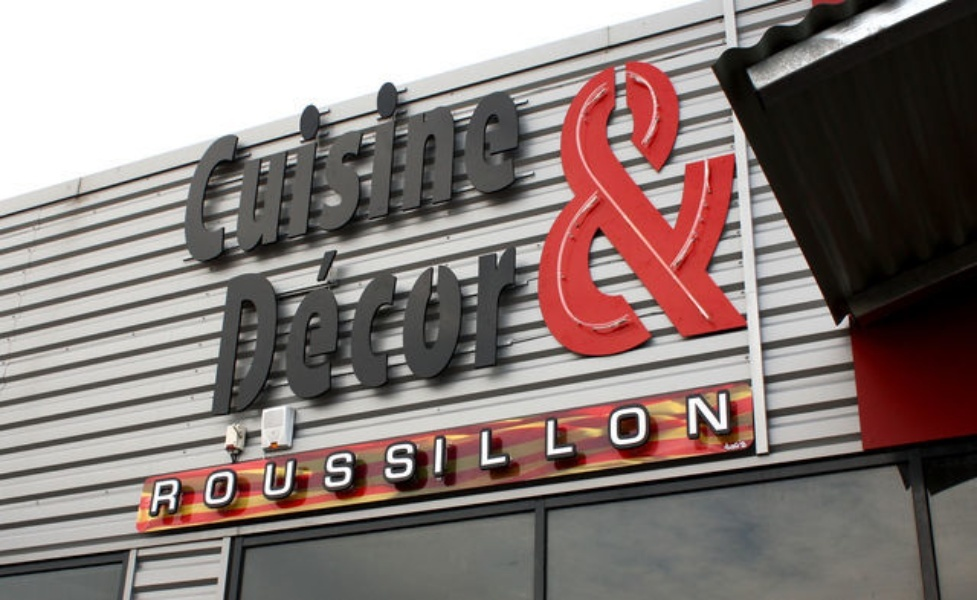text: (561, 43, 576, 367), (577, 43, 592, 367), (593, 43, 608, 367), (609, 43, 624, 367), (625, 43, 640, 367), (641, 43, 656, 367), (657, 43, 672, 367), (673, 43, 688, 367), (689, 43, 704, 367), (705, 43, 720, 367), (721, 43, 736, 367), (737, 43, 752, 367), (193, 37, 208, 278), (209, 37, 224, 278), (225, 37, 240, 278), (241, 37, 256, 278), (257, 37, 272, 278), (273, 37, 288, 278), (289, 37, 304, 278), (305, 37, 320, 278), (321, 37, 336, 278), (337, 37, 352, 278), (353, 37, 368, 278), (369, 37, 384, 278), (385, 37, 400, 278), (401, 37, 416, 278), (417, 37, 432, 278), (433, 37, 448, 278), (449, 37, 464, 278), (465, 37, 480, 278), (481, 37, 496, 278), (497, 37, 512, 278), (513, 37, 527, 278), (225, 201, 240, 422), (241, 201, 256, 422), (257, 201, 272, 422), (273, 201, 288, 422), (289, 201, 304, 422), (305, 201, 320, 422), (321, 201, 336, 422), (337, 201, 352, 422), (353, 201, 368, 422), (369, 201, 384, 422), (385, 201, 400, 422), (401, 201, 416, 422), (417, 201, 432, 422), (433, 201, 448, 422), (449, 201, 464, 422), (465, 201, 480, 422), (481, 201, 496, 422), (497, 201, 512, 422), (550, 43, 560, 367), (513, 201, 524, 422), (161, 384, 176, 520), (177, 384, 192, 520), (193, 384, 208, 520), (209, 384, 224, 520), (225, 384, 240, 520), (241, 384, 256, 520), (257, 384, 272, 520), (273, 384, 288, 520), (289, 384, 304, 520), (305, 384, 320, 520), (321, 384, 336, 520), (337, 384, 352, 520), (353, 384, 368, 520), (369, 384, 384, 520), (385, 384, 400, 520), (401, 384, 416, 520), (417, 384, 432, 520), (433, 384, 448, 520), (449, 384, 464, 520), (465, 384, 480, 520), (481, 384, 496, 520), (497, 384, 512, 520), (513, 384, 528, 520), (529, 384, 544, 520), (545, 384, 560, 520), (561, 384, 576, 520), (577, 384, 592, 520), (593, 384, 608, 520), (609, 384, 624, 520), (625, 384, 640, 520), (641, 384, 656, 520), (657, 384, 672, 520), (673, 384, 688, 520), (689, 384, 704, 520), (705, 384, 720, 520), (721, 384, 736, 520), (753, 43, 759, 367), (147, 384, 160, 520), (188, 37, 192, 278), (220, 201, 224, 422)
